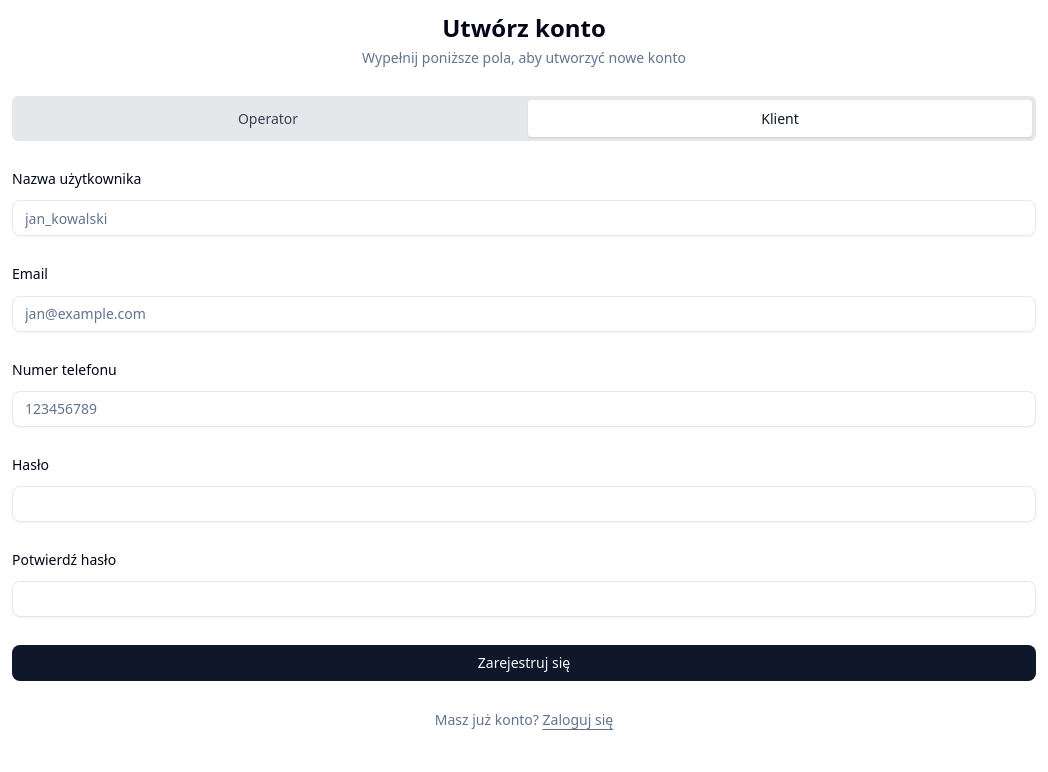
Scenario: RegisterForm › shows extra fields when Operator role is selected
This screenshot has width=1048, height=772.
Click the button "Operator" at (268, 118), box [16, 100, 520, 137]
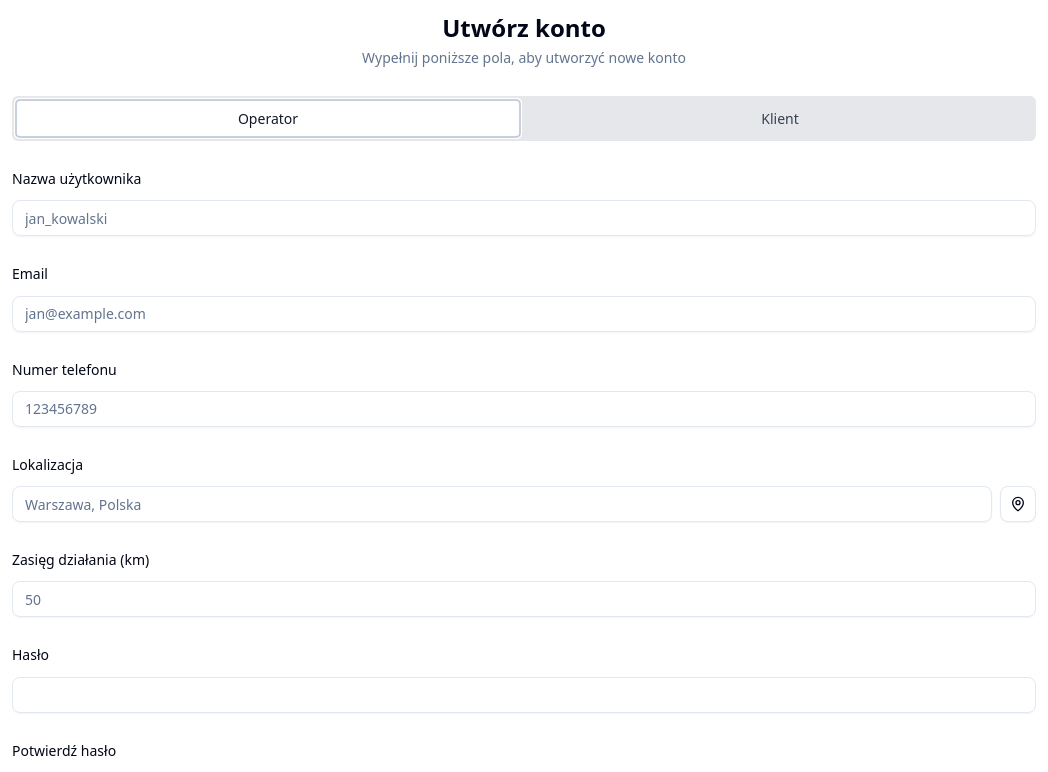
Check: the field labelled "Lokalizacja" is shown, box [12, 486, 992, 522]
Check: the number field labelled "Zasięg działania (km)" is shown, box [12, 581, 1036, 617]
